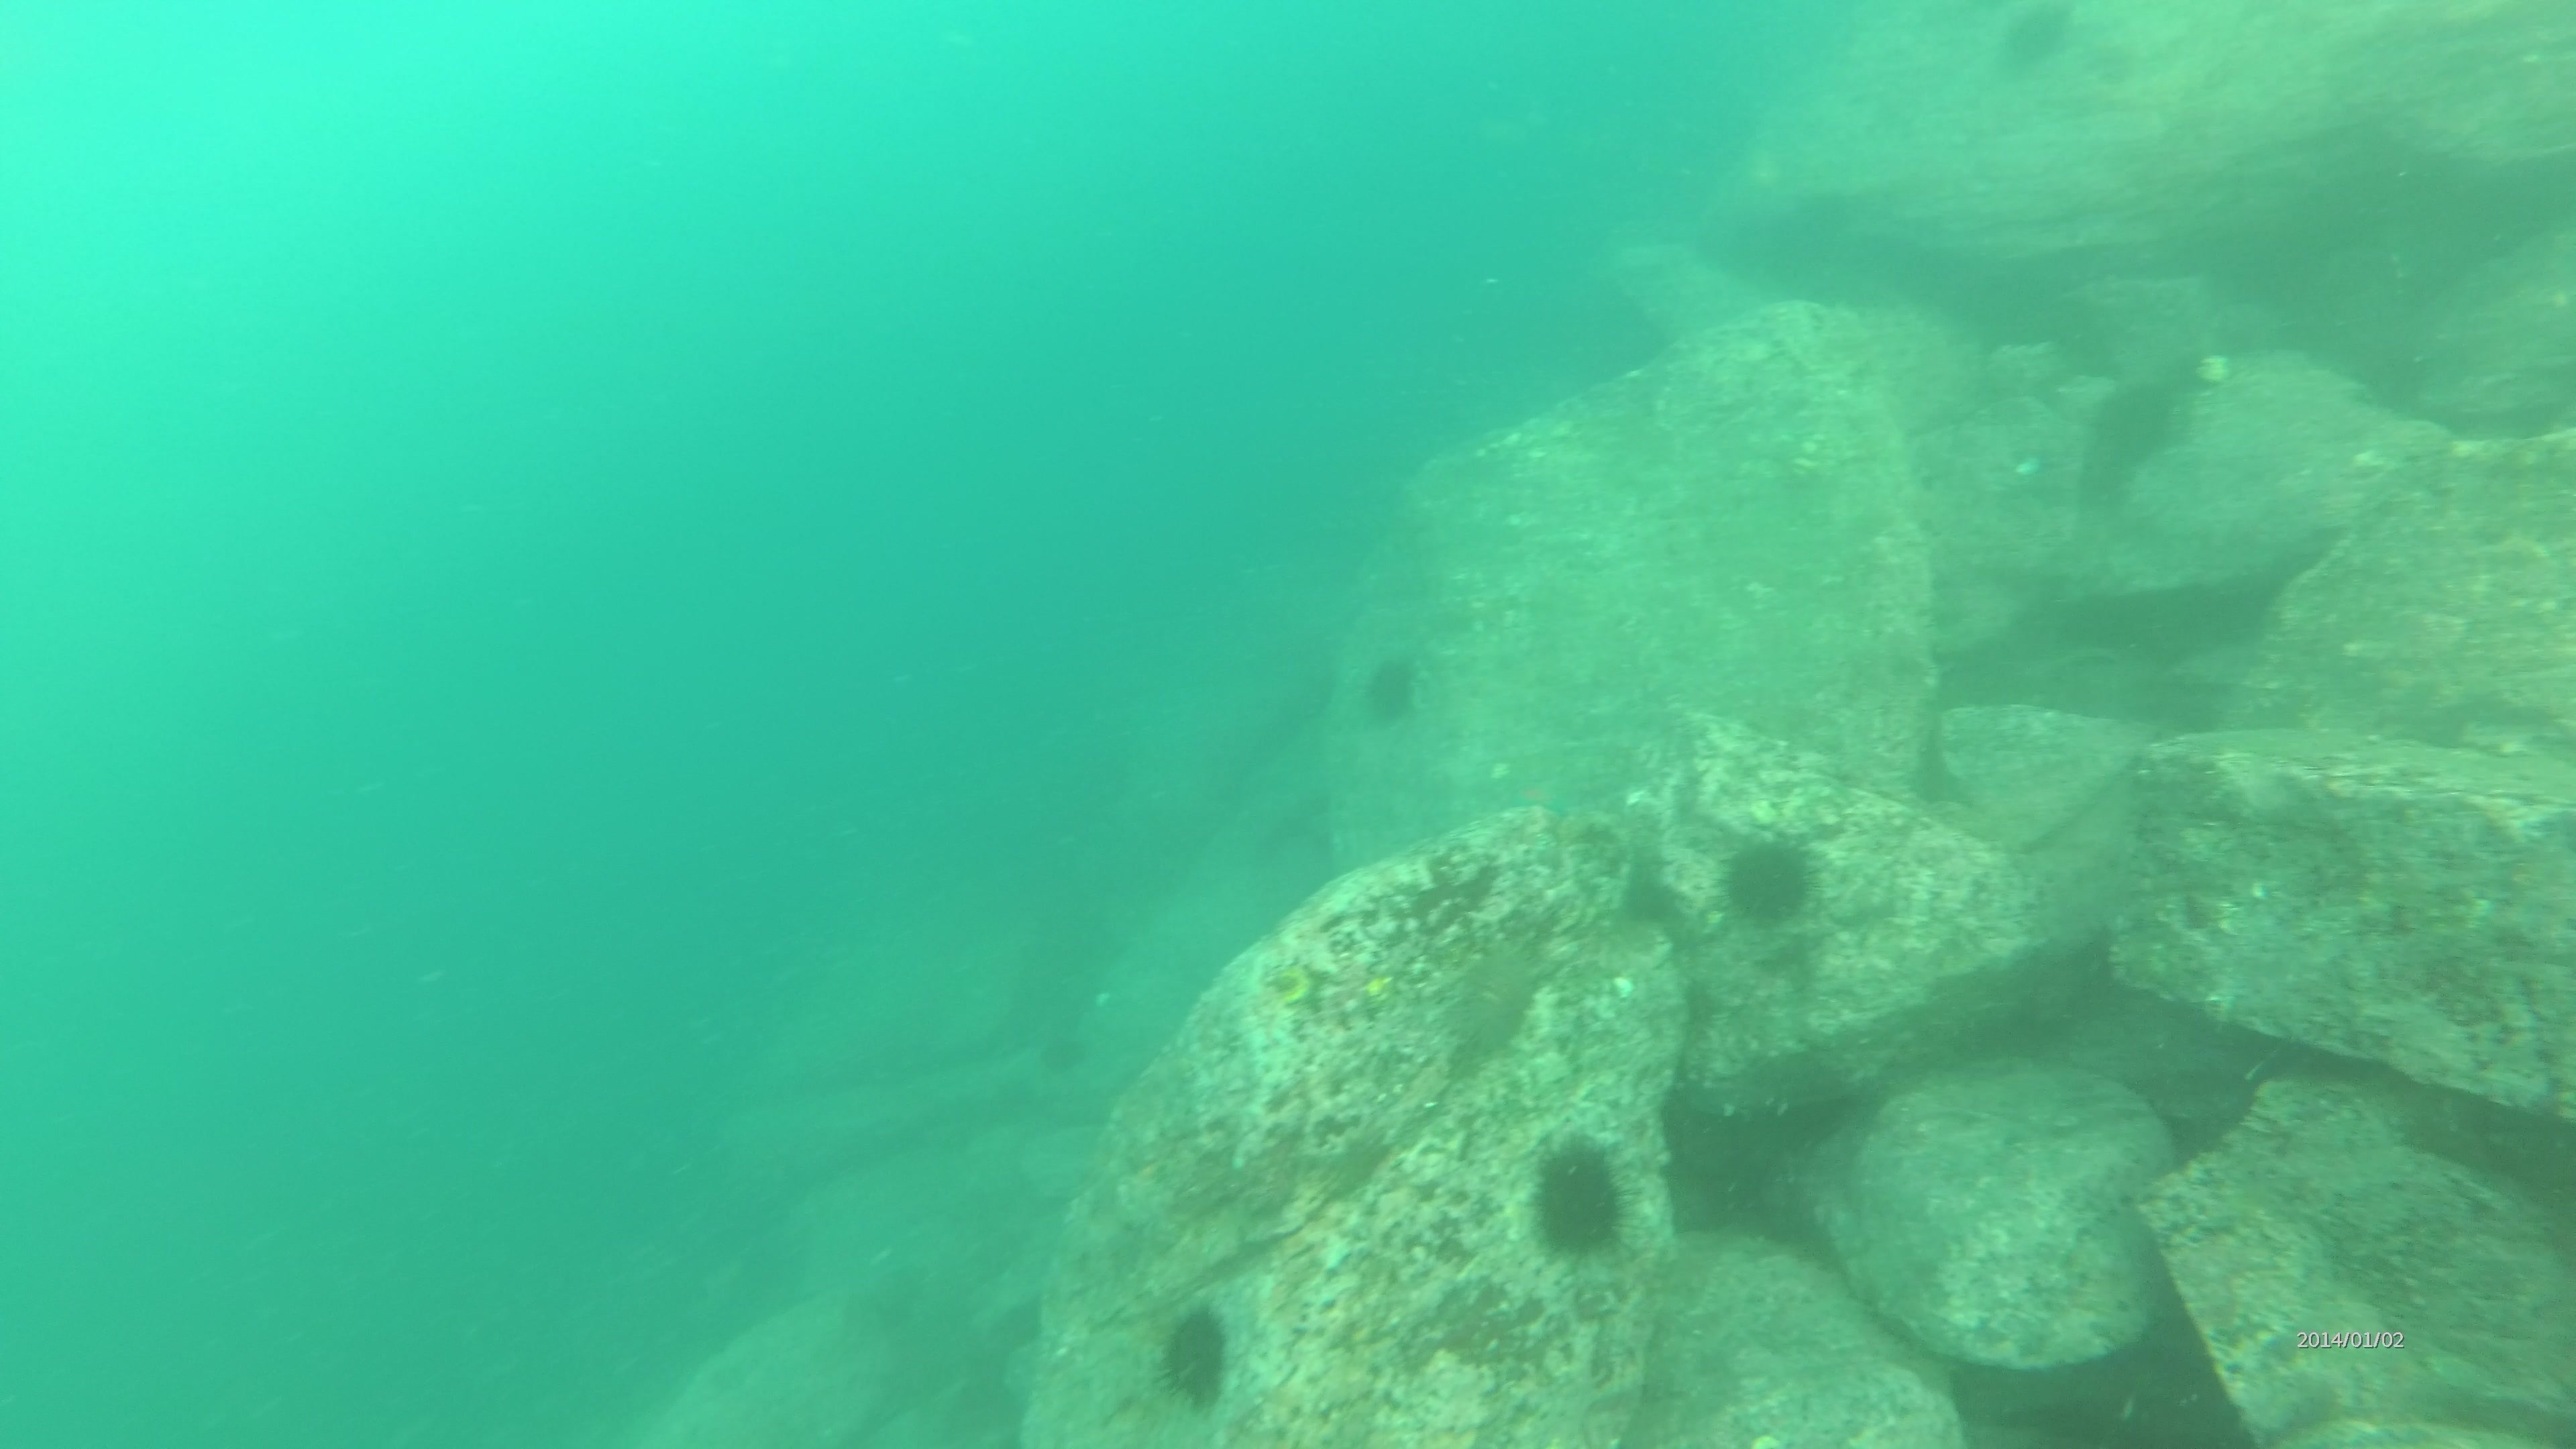echinus: (1522, 1131, 1637, 1265), (1711, 824, 1826, 934), (1148, 1297, 1244, 1414), (2086, 373, 2190, 472), (1987, 2, 2082, 81), (1355, 648, 1430, 732)
starfish: (1433, 929, 1548, 1063)
